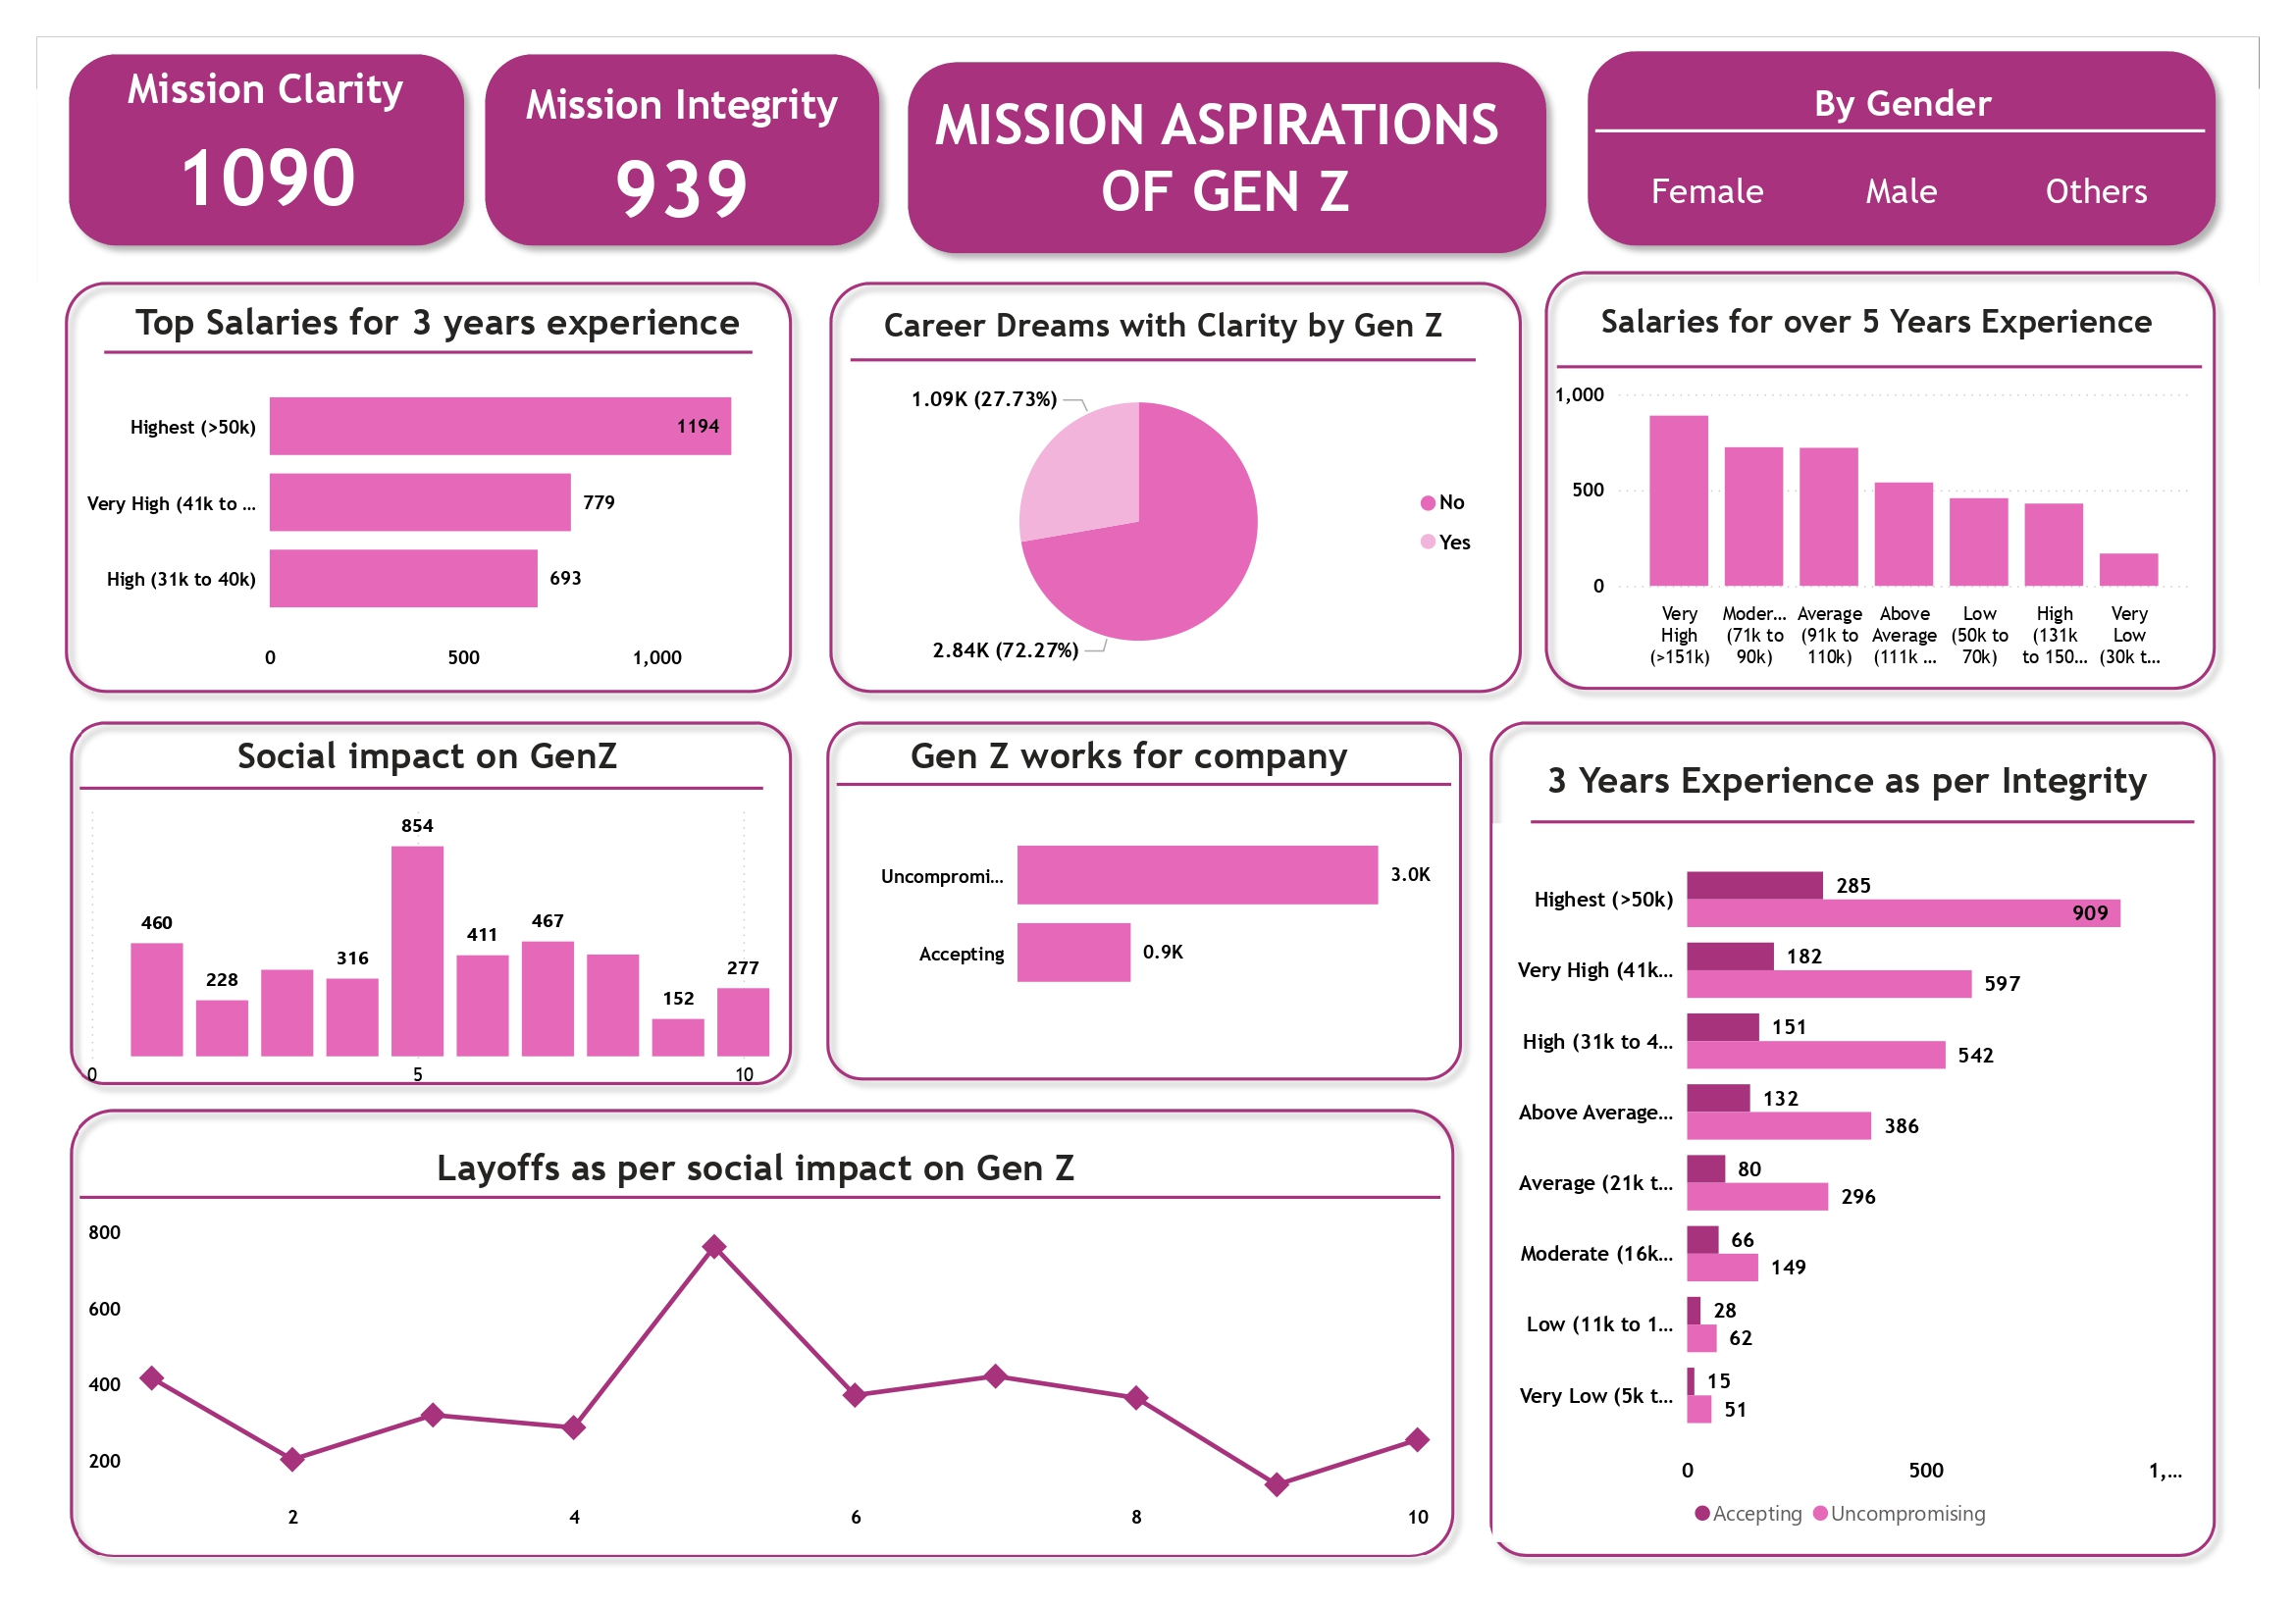

Layout of this report page (visuals, bound fields, positions):
{"tool":"powerbi","page":{"name":"MA","canvas":[1450,1000],"ordinal":1},"visuals":[{"type":"shape","box":[508.4,149.5,469.3,287.6],"z":0},{"type":"shape","box":[975.5,142.6,455.5,292.2],"z":1000},{"type":"shape","box":[9.2,149.5,492.3,287.6],"z":2000},{"type":"shape","box":[559.1,6.9,434.8,142.6],"z":3000},{"type":"shape","box":[283,2.3,276.1,142.6],"z":4000},{"type":"shape","box":[1003.1,0,427.9,144.9],"z":5000},{"type":"shape","box":[11.5,2.3,276.1,142.6],"z":6000},{"type":"card","title":"Mission Clarity","fields":{"Values":["CountNonNull(Responses.Mission Clarity)"]},"box":[41.4,18.4,216.3,108.1],"z":7000},{"type":"card","title":"Mission Integrity","fields":{"Values":["CountNonNull(Responses.Mission Integrity)"]},"box":[301.4,27.6,239.3,105.8],"z":8000},{"type":"textbox","box":[577.5,29.9,398,108.1],"z":9000},{"type":"advancedSlicerVisual","title":"By Gender","fields":{"Values":["Responses.Gender"]},"box":[1026.1,27.6,384.2,115],"z":10000},{"type":"shape","box":[1016.9,50.6,398,20.7],"z":11000},{"type":"shape","box":[11.5,437.1,490,255.4],"z":12000},{"type":"shape","box":[938.7,437.1,492.3,563.7],"z":13000},{"type":"shape","box":[506.1,437.1,432.5,253.1],"z":14000},{"type":"shape","box":[11.5,690.2,922.6,310.6],"z":15000},{"type":"shape","box":[43.7,186.4,423.3,39.1],"z":16000},{"type":"shape","box":[991.6,204.8,421,20.7],"z":17000},{"type":"shape","box":[531.5,204.8,407.2,11.5],"z":18000},{"type":"barChart","fields":{"Category":["Responses.Salary Expectation for (3Yrs)"],"Y":["CountNonNull(Responses.Gender)"]},"box":[16.1,202.5,492.3,218.6],"z":19000},{"type":"textbox","box":[526.9,170.2,416.4,39.1],"z":20000},{"type":"pieChart","fields":{"Category":["Responses.Mission Clarity"],"Y":["CountNonNull(Responses.Mission Integrity)"]},"box":[531.5,209.4,418.7,214],"z":21000},{"type":"textbox","box":[20.7,165.6,480.8,48.3],"z":22000},{"type":"clusteredColumnChart","fields":{"Category":["Responses.Salary Expectation for (5Yrs)"],"Y":["CountNonNull(Responses.Gender)"]},"box":[984.7,218.6,425.6,200.2],"z":23000},{"type":"textbox","box":[993.9,167.9,414.1,43.7],"z":24000},{"type":"columnChart","fields":{"Category":["Responses.Rate of Social impact"],"Y":["CountNonNull(Responses.Gender)"]},"box":[11.5,490,473.9,202.5],"z":25000},{"type":"shape","box":[27.6,473.9,446.3,32.2],"z":26000},{"type":"textbox","box":[48.3,448.6,414.1,50.6],"z":27000},{"type":"barChart","fields":{"Category":["Responses.Mission Integrity"],"Y":["CountNonNull(Responses.Mission Clarity)"]},"box":[531.5,469.3,384.2,200.2],"z":28000},{"type":"shape","box":[522.3,469.3,400.3,36.8],"z":29000},{"type":"textbox","box":[506.1,448.6,414.1,39.1],"z":30000},{"type":"lineChart","fields":{"Category":["Responses.Rate of Social impact"],"Y":["CountNonNull(Responses.Layoff Tolerance)"]},"box":[27.6,766.1,888.1,216.3],"z":31000},{"type":"shape","box":[27.6,747.7,888.1,18.4],"z":32000},{"type":"textbox","box":[161,717.8,616.6,39.1],"z":33000},{"type":"clusteredBarChart","fields":{"Category":["Responses.Salary Expectation for (3Yrs)"],"Series":["Responses.Mission Integrity"],"Y":["CountNonNull(Responses.Gender)"]},"box":[950.2,513,457.8,469.3],"z":34000},{"type":"shape","box":[975.5,490,432.5,43.7],"z":35000},{"type":"textbox","box":[945.6,464.7,471.6,50.6],"z":36000}]}

Visuals, with their boxes in screenshot pixels (x1, y1, x2, y2):
shape: 816:266:1536:707
shape: 1532:255:2230:703
shape: 51:266:806:707
shape: 894:47:1560:266
shape: 471:40:894:259
shape: 1574:37:2230:259
shape: 54:40:478:259
"Mission Clarity" card: 100:65:432:231
"Mission Integrity" card: 498:79:865:241
textbox: 922:82:1532:248
"By Gender" advancedSlicerVisual: 1609:79:2198:255
shape: 1595:115:2206:146
shape: 54:707:806:1099
shape: 1476:707:2230:1570
shape: 812:707:1476:1095
shape: 54:1095:1469:1570
shape: 104:323:753:383
shape: 1556:351:2202:383
shape: 852:351:1476:369
barChart - Responses.Salary Expectation for (3Yrs) x CountNonNull(Responses.Gender): 62:347:816:683
textbox: 845:298:1483:358
pieChart - Responses.Mission Clarity x CountNonNull(Responses.Mission Integrity): 852:358:1493:686
textbox: 69:290:806:365
clusteredColumnChart - Responses.Salary Expectation for (5Yrs) x CountNonNull(Responses.Gender): 1546:372:2198:679
textbox: 1560:294:2195:361
columnChart - Responses.Rate of Social impact x CountNonNull(Responses.Gender): 54:788:781:1099
shape: 79:763:763:813
textbox: 111:725:746:803
barChart - Responses.Mission Integrity x CountNonNull(Responses.Mission Clarity): 852:756:1440:1063
shape: 837:756:1451:813
textbox: 812:725:1447:785
lineChart - Responses.Rate of Social impact x CountNonNull(Responses.Layoff Tolerance): 79:1212:1440:1543
shape: 79:1183:1440:1212
textbox: 284:1137:1228:1198
clusteredBarChart - Responses.Salary Expectation for (3Yrs) x Responses.Mission Integrity: 1493:823:2195:1543
shape: 1532:788:2195:855
textbox: 1487:750:2209:827
